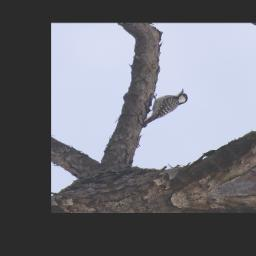Woodpecker: (125, 84, 201, 131)
